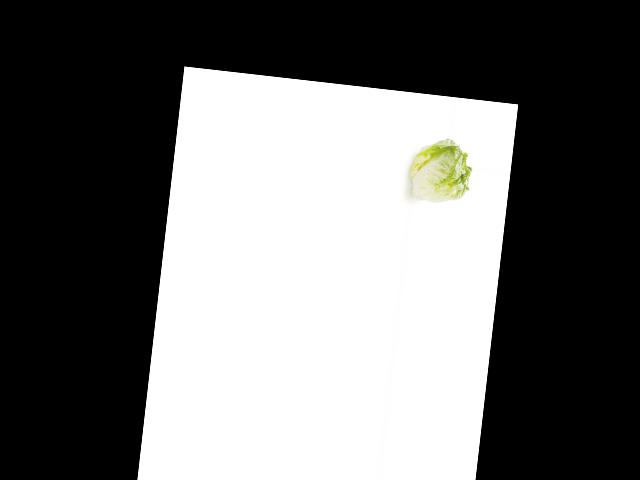lettuce: (407, 131, 477, 210)
